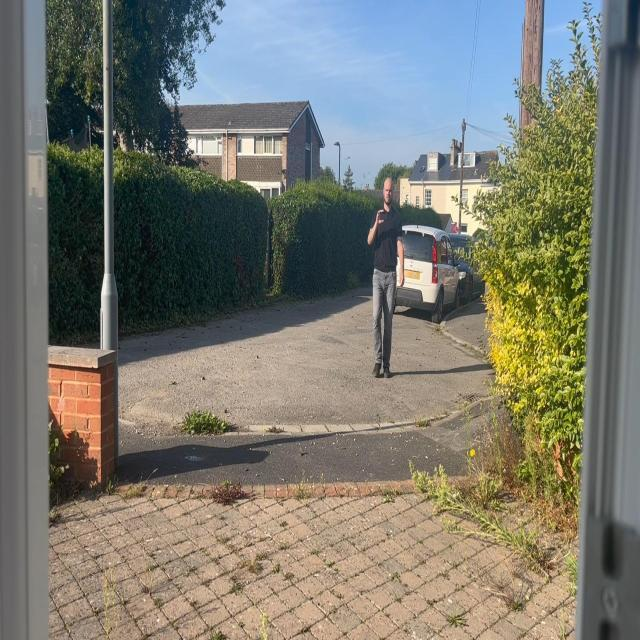lens: (387, 216, 389, 219)
phone: (380, 212, 389, 221)
